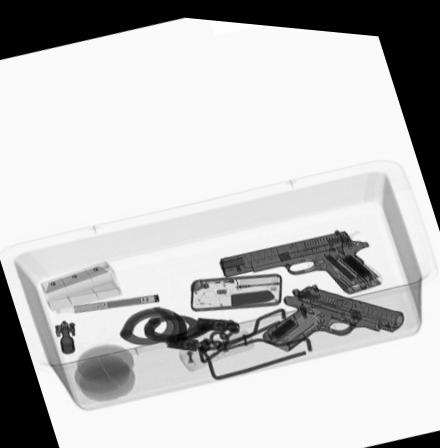Knife: (45, 263, 113, 293)
